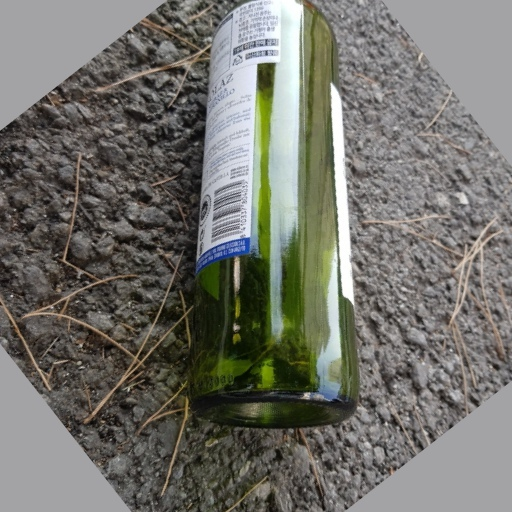Glass_2: (189, 2, 359, 432)
